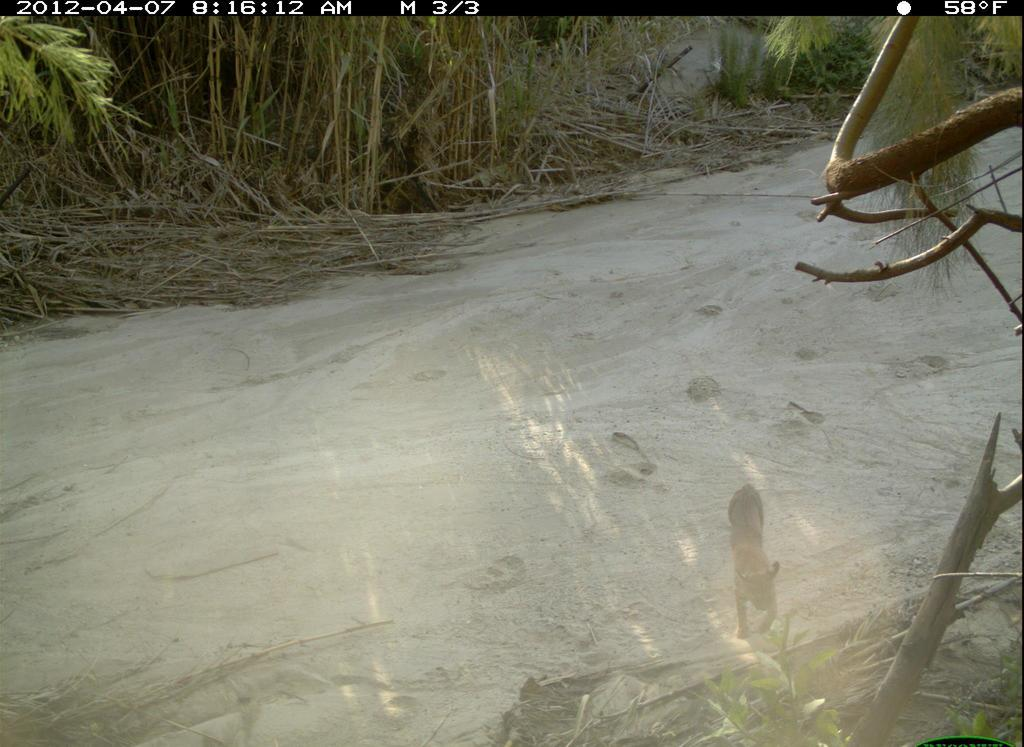bobcat: (718, 476, 797, 656)
